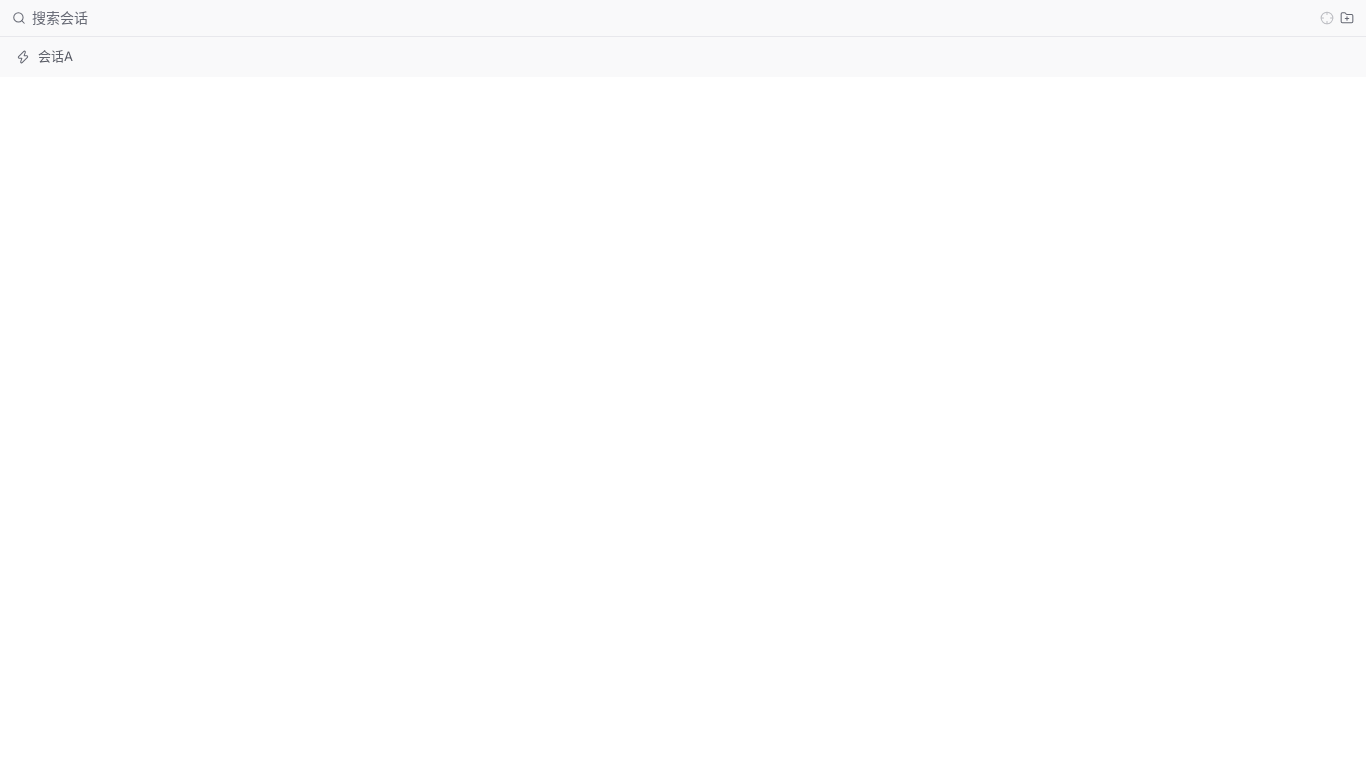
Test: RoomList — 解散会话确认（D10：原生 confirm → ConfirmDialog） › 点「解散」→ 弹「解散会话」ConfirmDialog（含成员移除说明），未确认不调 delete
Right-click the button "会话A".
right_click(55, 56)  # box [6,39,1360,75]
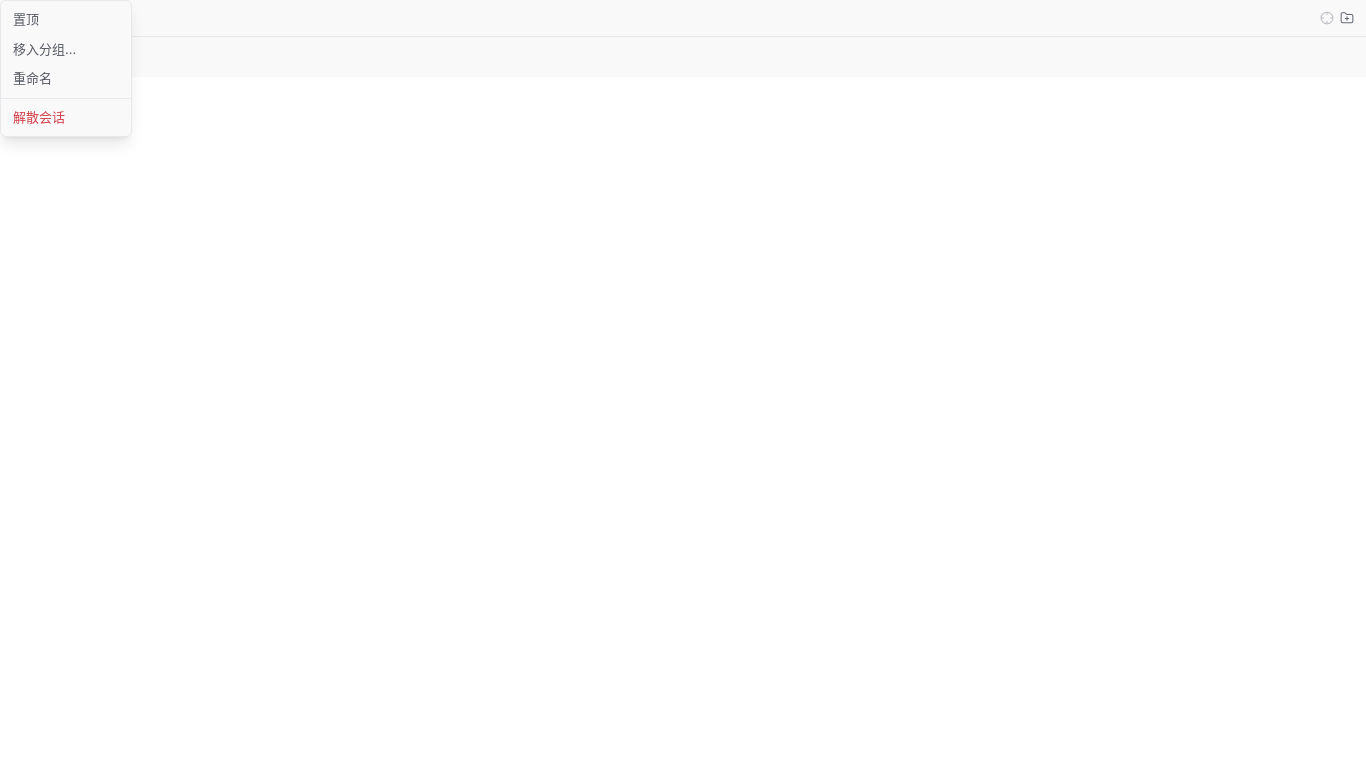
Click the button "解散会话".
click(66, 117)  # box [1,102,131,132]
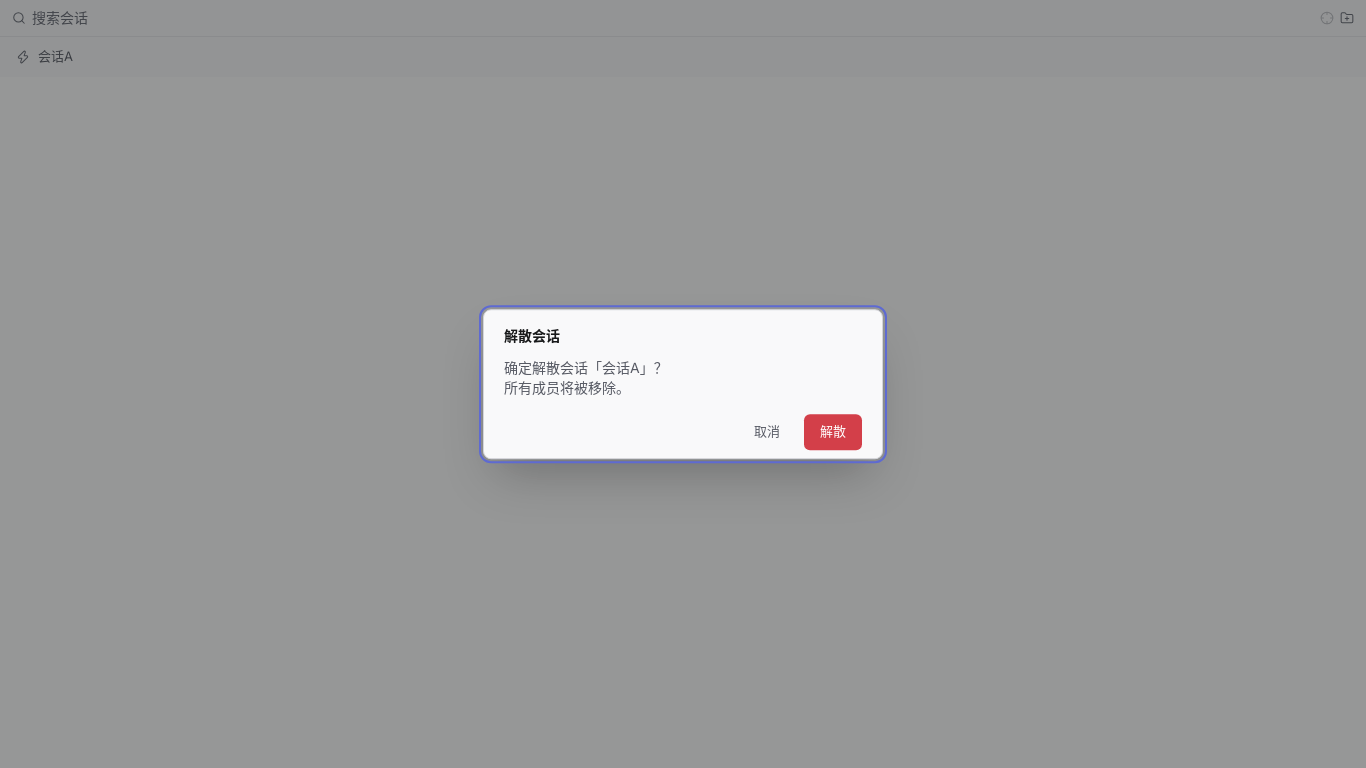
Result: the text "确定解散会话「会话A」？ 所有成员将被移除。" is shown at [504,359,668,396]
